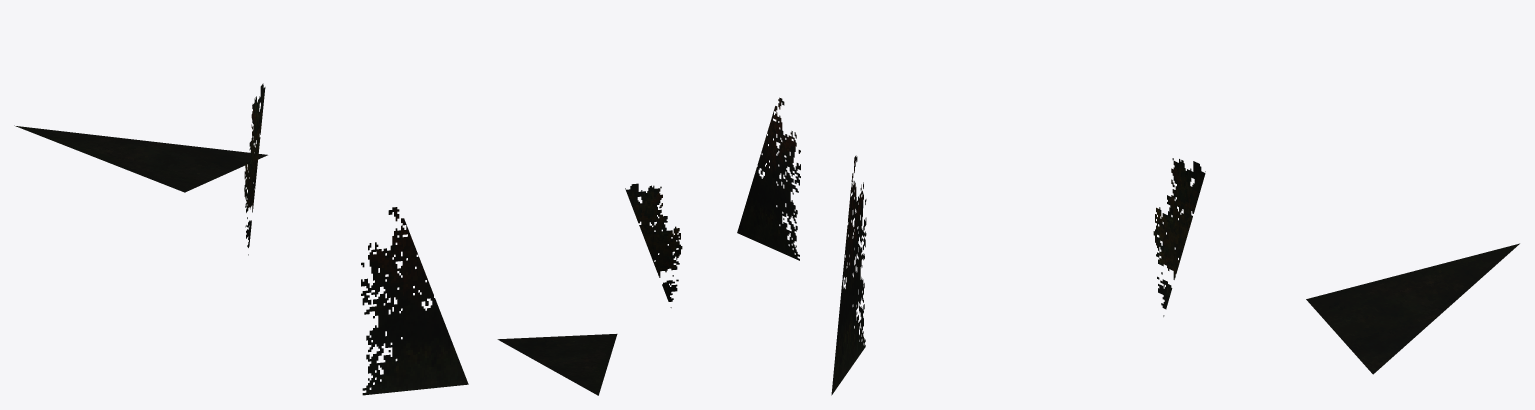
The model's file is cell_0_-10.gltf.
3 renders of one model, left to right at view 1: azimuth 30°, elevation 25°; view 2: azimuth 150°, elevation 25°; view 3: azimuth 270°, elevation 25°, orthographic. The views are drawn at different scales.
Visible parts, largest first — view 1: cell_0_-10; view 2: cell_0_-10; view 3: cell_0_-10.
Part boxes in pixels (x1,y1,x2,y2): cell_0_-10: (14,83,468,395); cell_0_-10: (497,97,800,395); cell_0_-10: (831,155,1519,395).
Size of the model in its own units: 21.96 by 33.59 by 62.75.
Materials: 2 (2 with a texture image).
